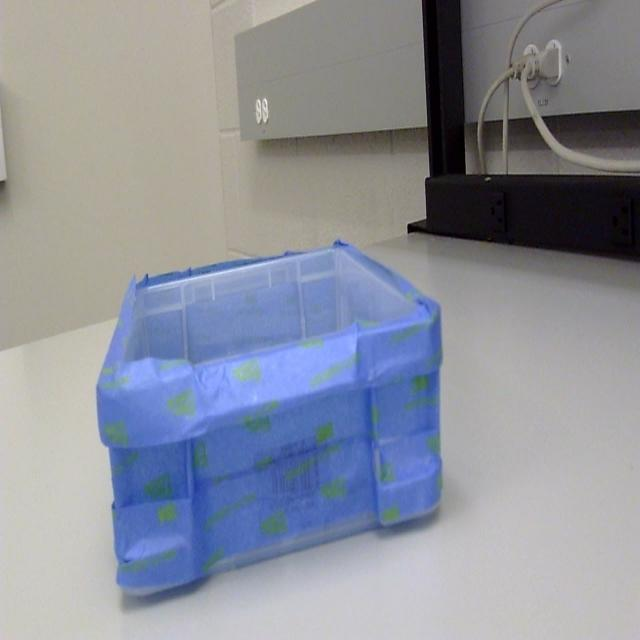bucket: (94, 241, 443, 601)
